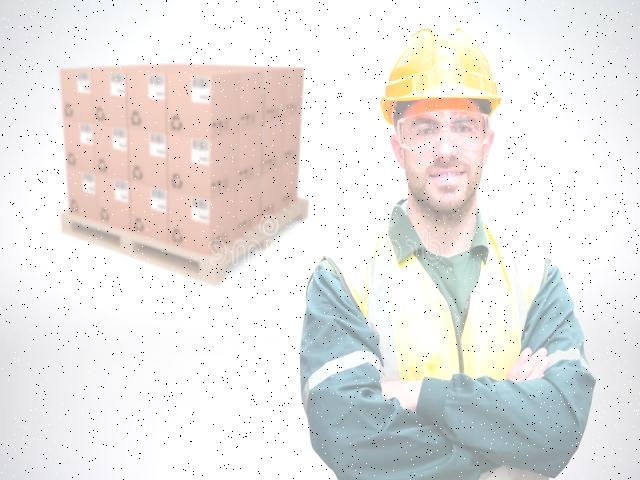Helmet: (375, 17, 507, 132)
